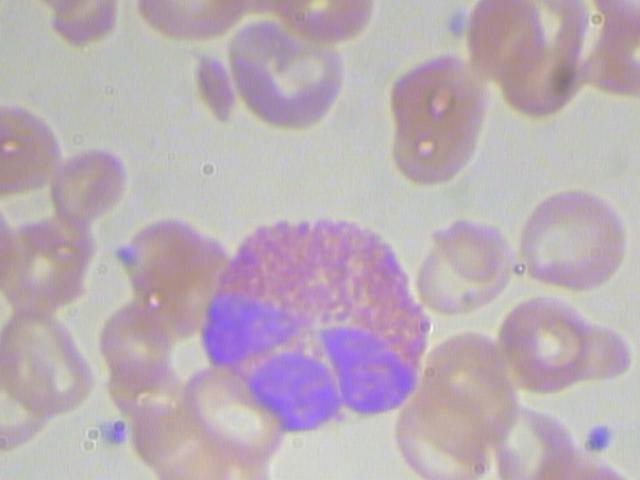RBC: (222, 16, 354, 137), (381, 53, 486, 191), (514, 187, 633, 293), (406, 208, 518, 313), (1, 100, 63, 208), (51, 140, 126, 221)
